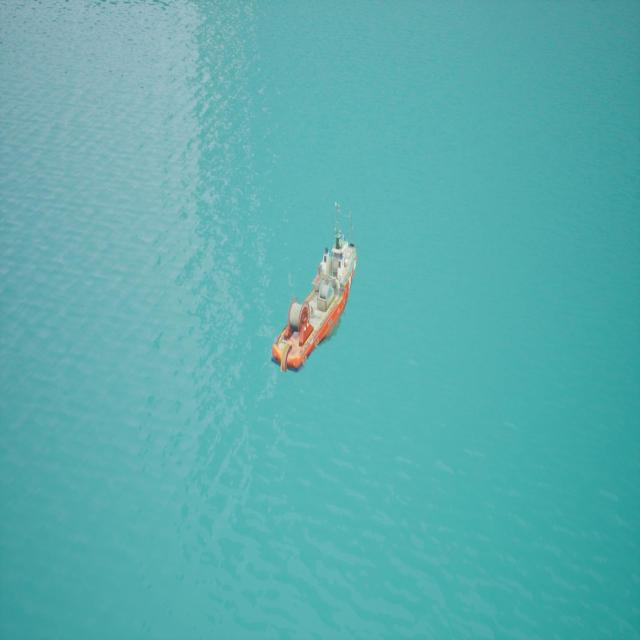tug boat: (251, 207, 375, 389)
